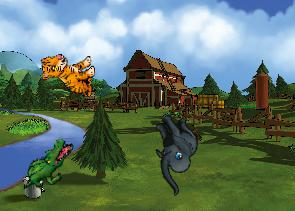crocodile: (21, 131, 75, 199)
elephant: (131, 107, 218, 196)
tiger: (40, 51, 97, 99)
